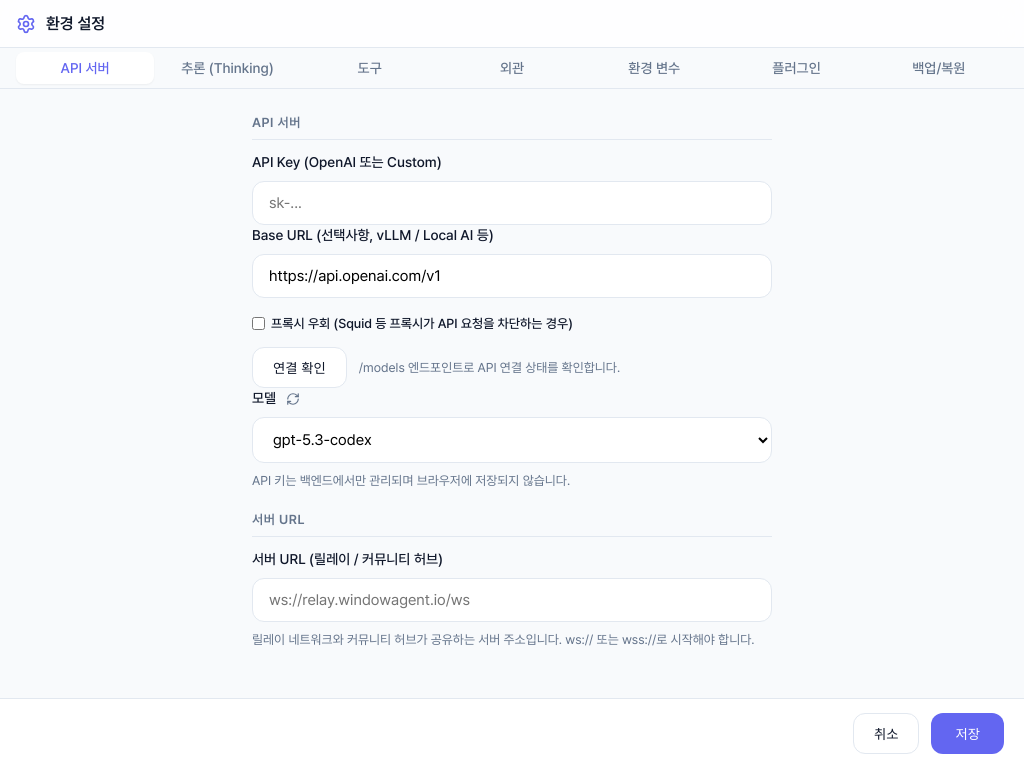
Test: SettingsPage › switching to thinking tab shows thinking controls
This screenshot has width=1024, height=768.
Click the tab "추론 (Thinking)": click(227, 68) [158,52,297,84]
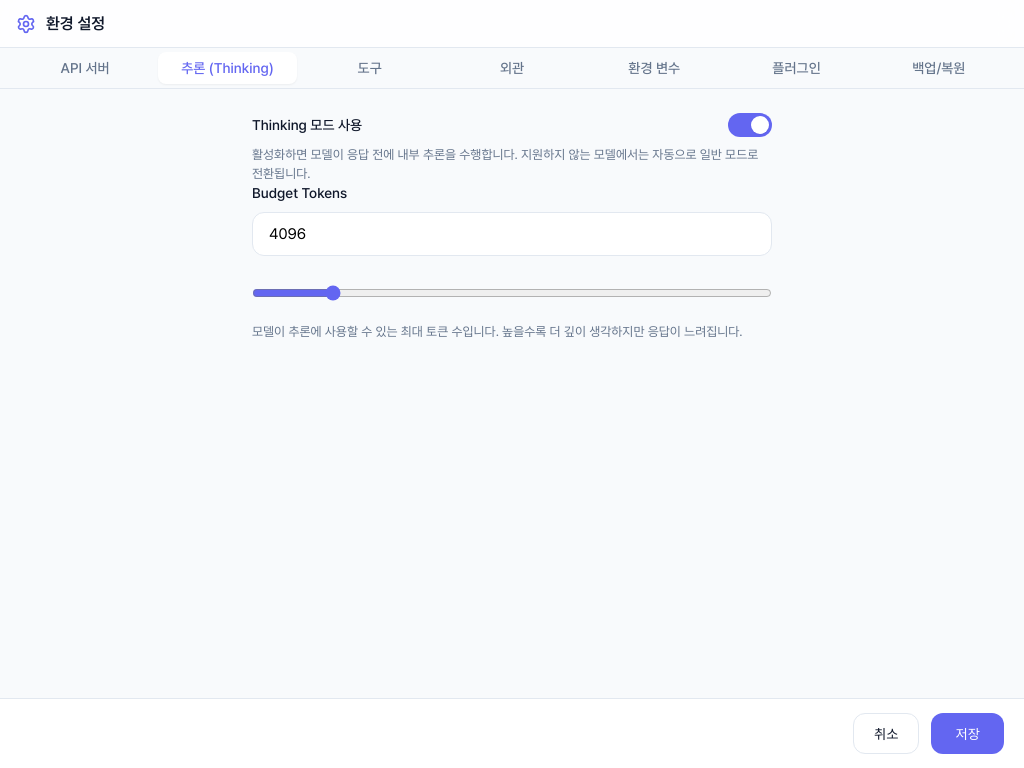
Now the text "Thinking 모드 사용" is shown, box [252,114,362,136]
Now the text "Budget Tokens" is shown, box [252,185,347,201]
